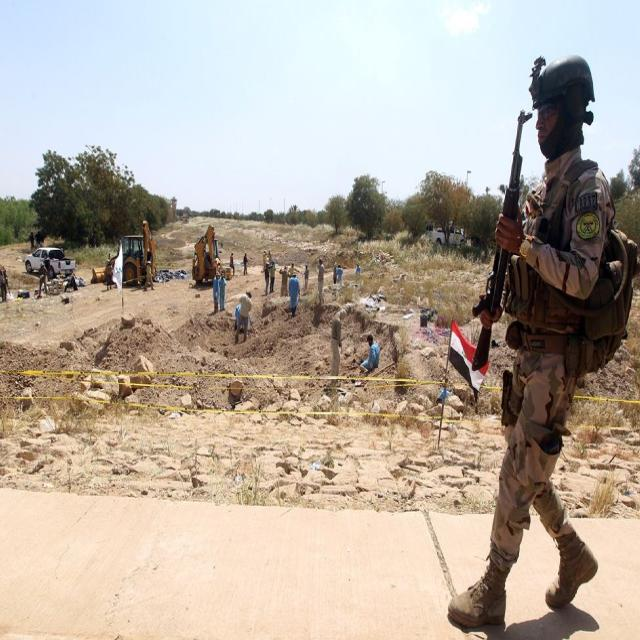body: (446, 49, 640, 632), (329, 307, 348, 385), (234, 289, 253, 346), (358, 333, 380, 378), (288, 270, 300, 319), (278, 264, 292, 298), (235, 302, 250, 332), (142, 259, 155, 291), (317, 257, 325, 306), (218, 270, 227, 312), (212, 269, 220, 314), (38, 261, 48, 297), (0, 264, 9, 303), (105, 260, 114, 290), (28, 230, 42, 249), (269, 261, 277, 293), (287, 262, 301, 279), (264, 262, 270, 294), (303, 263, 310, 289), (242, 252, 249, 276), (229, 251, 235, 277), (104, 258, 110, 281), (43, 253, 51, 270), (336, 264, 343, 283), (332, 261, 337, 285), (56, 243, 65, 256), (262, 249, 266, 271), (267, 249, 271, 270), (355, 261, 360, 274), (425, 224, 433, 231)
